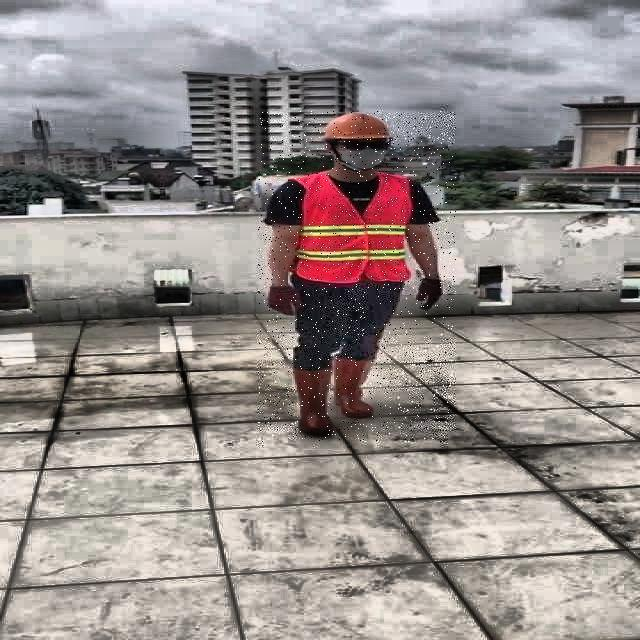safety_helmet: (318, 111, 395, 142)
safety_jacket: (291, 173, 409, 283)
